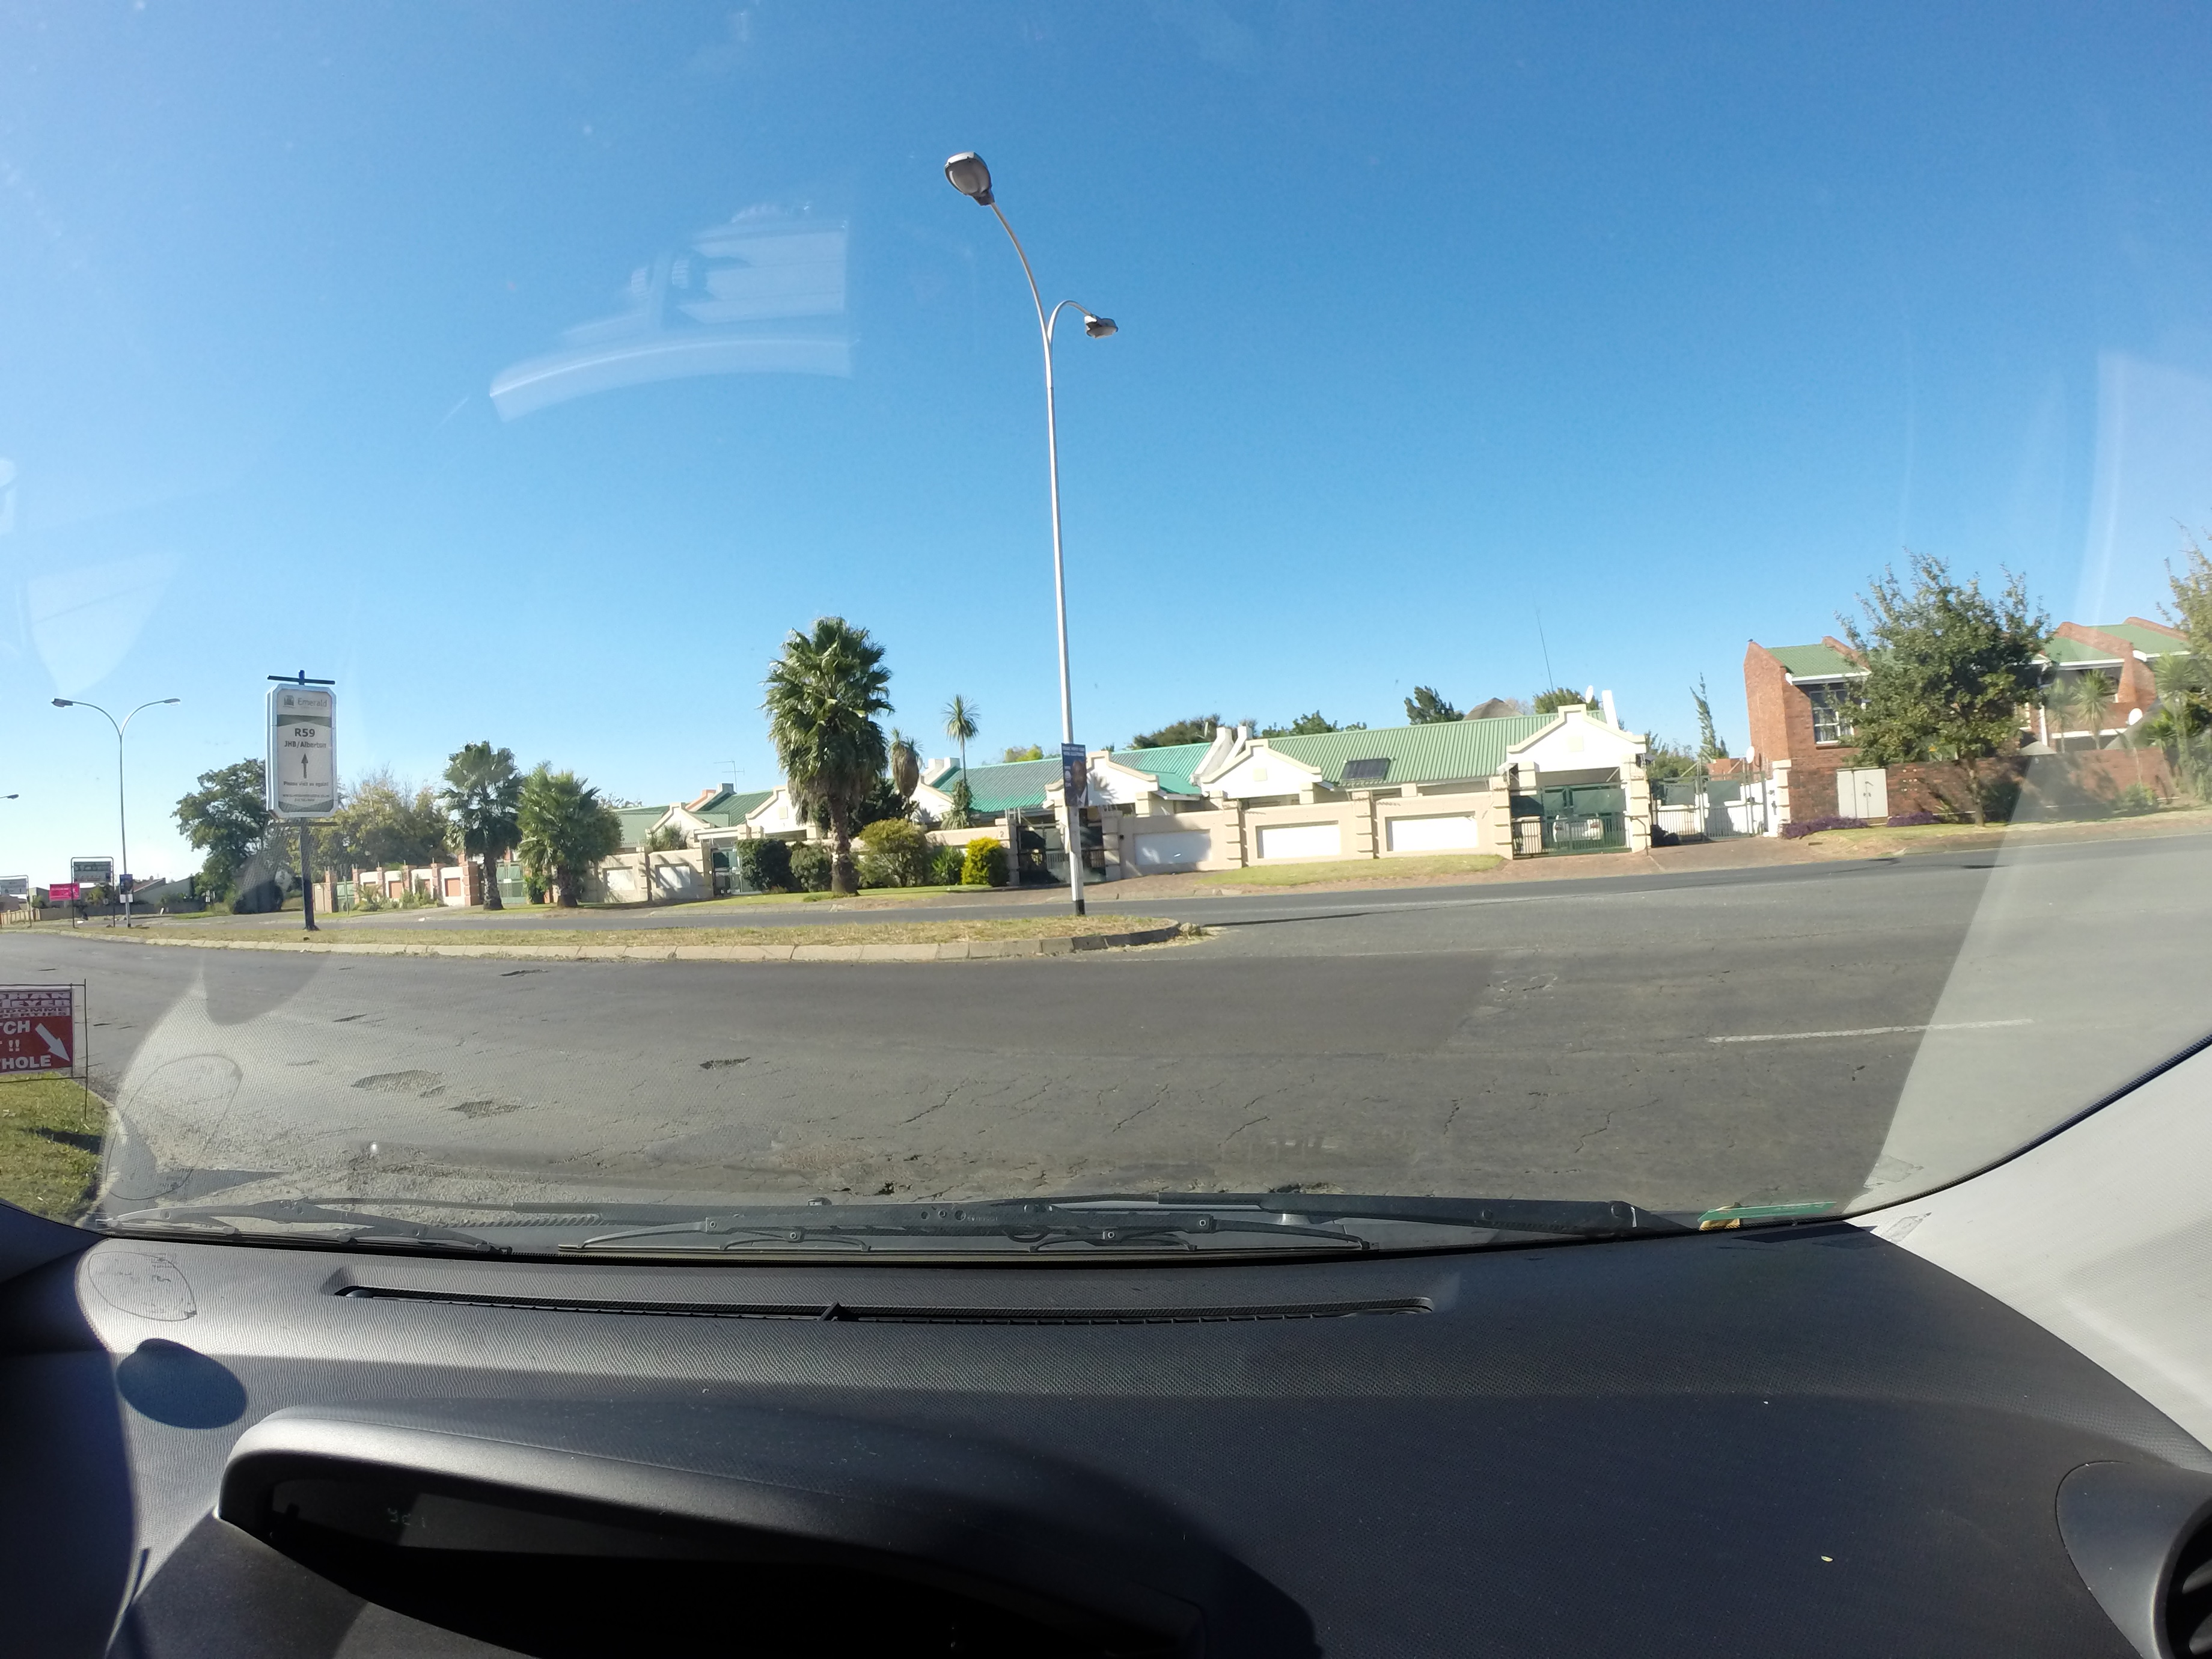pothole: (355, 1042, 526, 1122)
